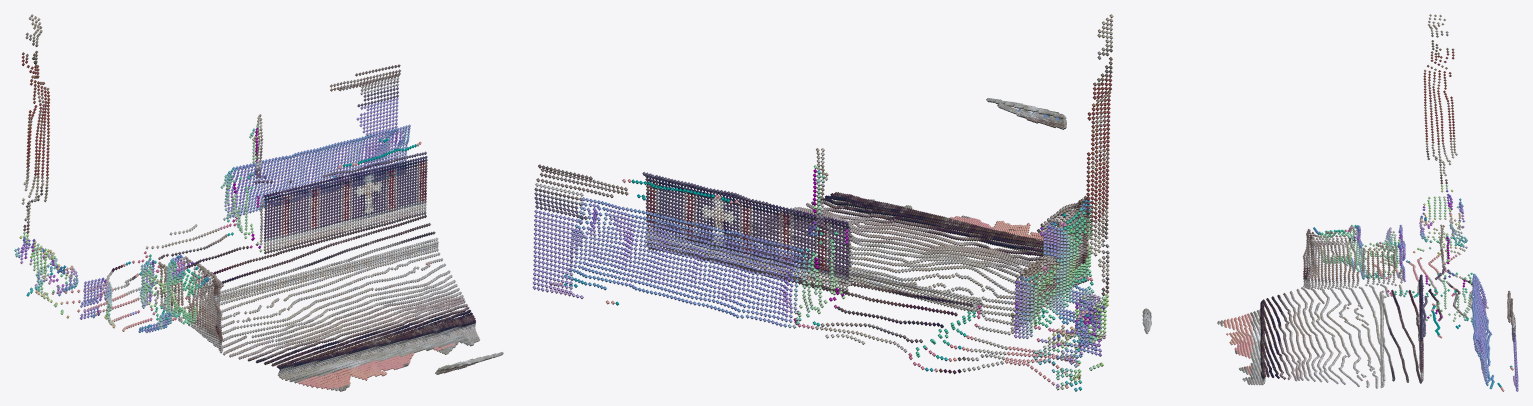
The model's file is combine_gt.glb.
3 views of the same model, side by side, from view 1: azimuth 30°, elevation 25°; view 2: azimuth 150°, elevation 25°; view 3: azimuth 270°, elevation 25° (orthographic). The views are drawn at different scales.
Parts seen in each view (by area): view 1: world; view 2: world; view 3: world.
Part boxes in pixels (x1,y1,x2,y2): world: (14,14,503,391); world: (532,14,1113,391); world: (1142,14,1518,391).
Size of the model in its own units: 7.27 by 5.26 by 7.24.
